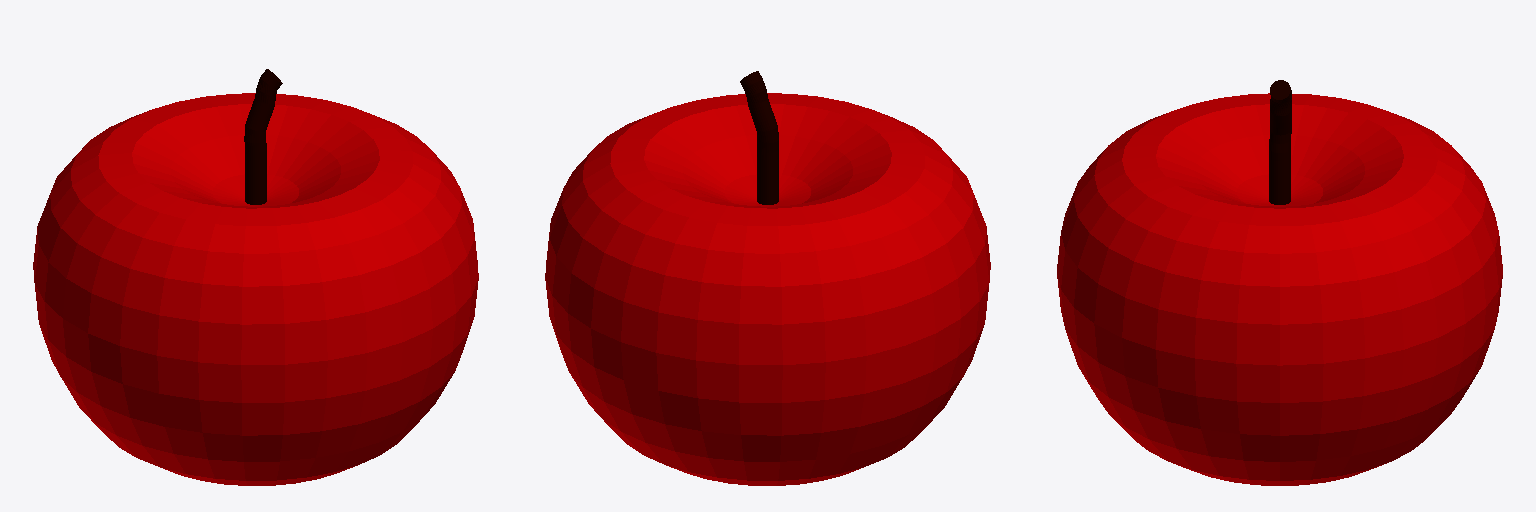
File: pomme.obj
3 renders of one model, left to right at view 1: azimuth 30°, elevation 25°; view 2: azimuth 150°, elevation 25°; view 3: azimuth 270°, elevation 25°, orthographic.
Parts seen in each view (by area): view 1: Sphere, Cylinder; view 2: Sphere, Cylinder; view 3: Sphere, Cylinder.
Boxes of the visible parts, box(x1,y1,x2,y2) form: Sphere: box(33, 93, 478, 485); Cylinder: box(244, 69, 282, 204); Sphere: box(545, 93, 990, 485); Cylinder: box(740, 71, 778, 204); Sphere: box(1057, 93, 1502, 485); Cylinder: box(1269, 80, 1291, 204).
Bounding box in the file's own units: 2 × 1.8 × 2.